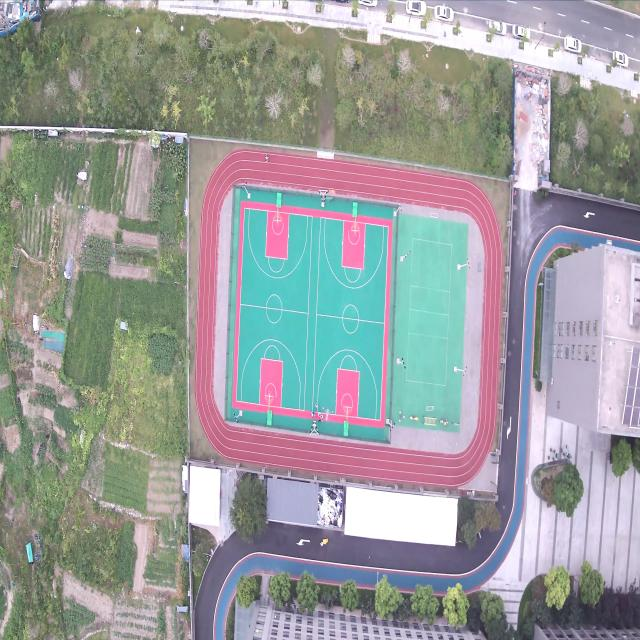UAV: (321, 406, 333, 422)
